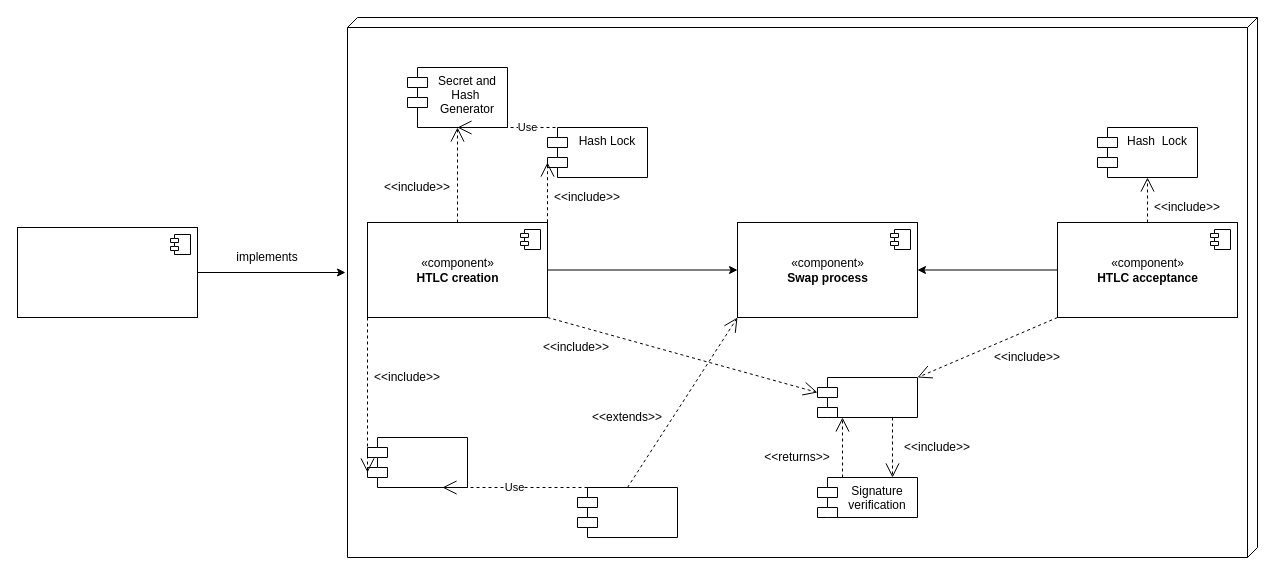
This 1275x575 diagram has some shape labels left out. Each missing label, with the box of its shape:
Refund Process: (576, 486, 678, 538)
Signing: (816, 376, 918, 418)
Time Lock: (366, 436, 468, 488)
«UI» Swapchain Web Application: (16, 226, 198, 318)
